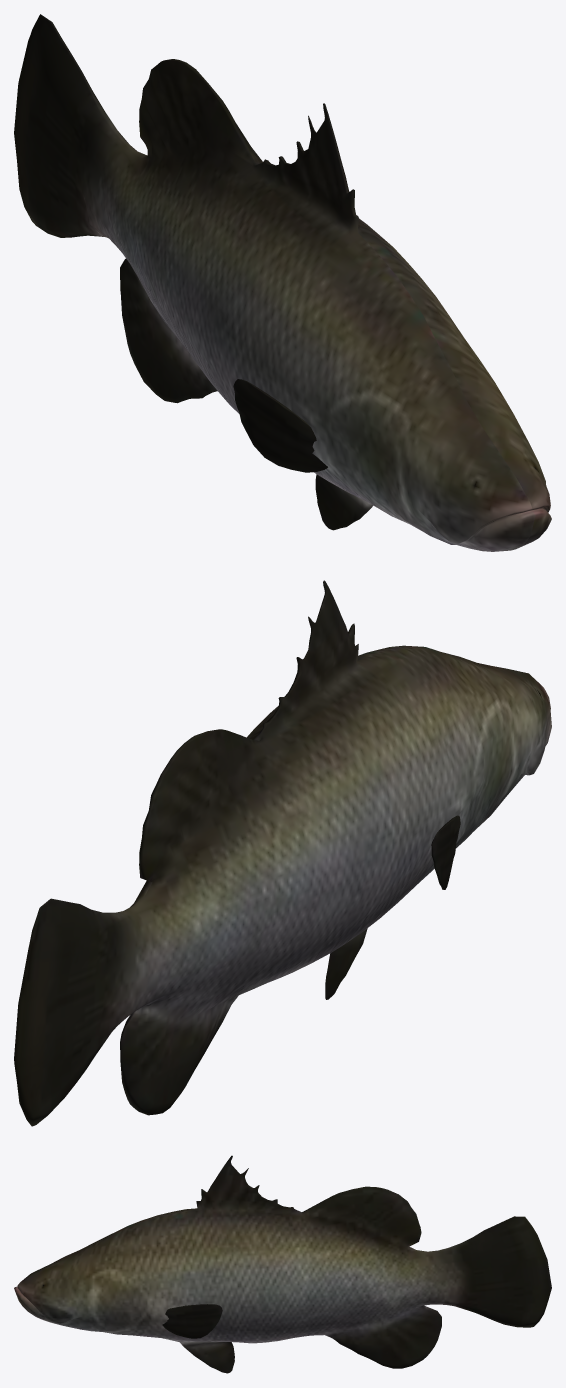
The model's file is barramundi.glb.
The picture shows the model from 3 angles, top to bottom: view 1: azimuth 30°, elevation 25°; view 2: azimuth 150°, elevation 25°; view 3: azimuth 270°, elevation 25°; orthographic projection. The views are drawn at different scales.
Parts seen in each view (by area): view 1: BarramundiFish; view 2: BarramundiFish; view 3: BarramundiFish.
Boxes of the visible parts, x1,y1,x2,y2 form: BarramundiFish: [14, 14, 551, 551]; BarramundiFish: [14, 580, 551, 1126]; BarramundiFish: [14, 1155, 551, 1373].
Bounding box in the file's own units: 0.1429 × 0.2875 × 0.6431.
Materials: 1 (1 with a texture image).
